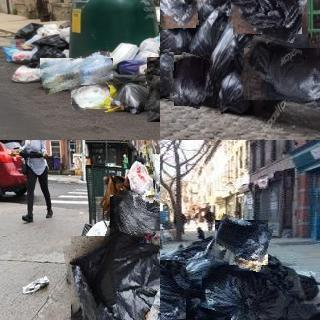Garbage: (66, 232, 160, 320), (241, 41, 320, 106), (198, 265, 291, 320), (106, 191, 160, 257), (212, 217, 271, 269), (230, 0, 304, 38), (39, 53, 114, 90), (171, 53, 210, 108), (160, 256, 190, 320), (213, 70, 254, 114), (160, 0, 197, 29), (71, 84, 111, 110), (226, 0, 275, 17), (160, 50, 176, 101)
